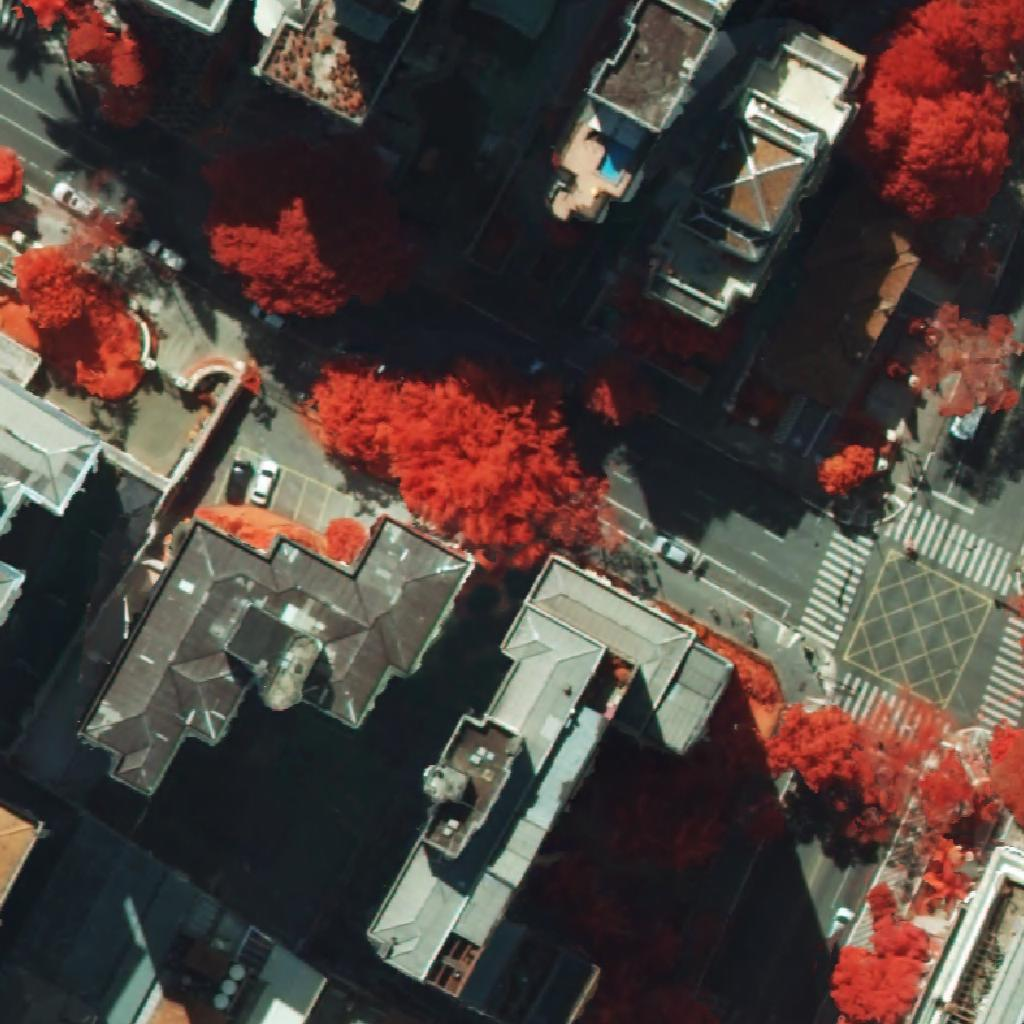pool: (597, 141, 632, 181)
